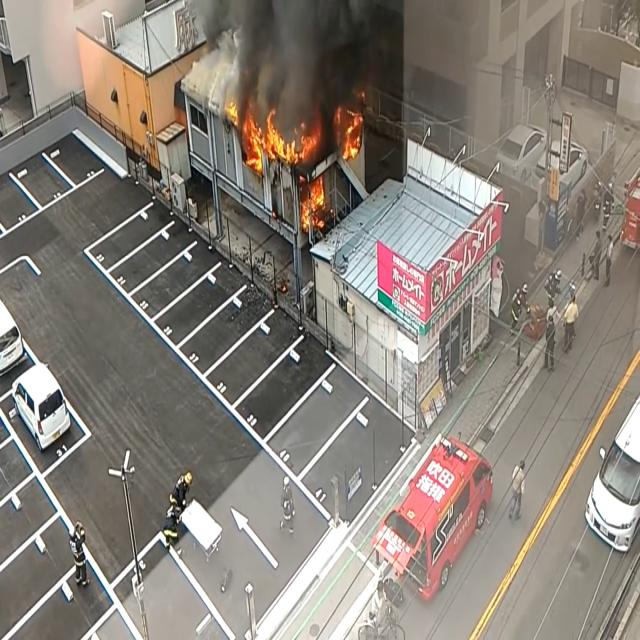Fire: (240, 109, 324, 175), (336, 97, 368, 165), (301, 169, 328, 233), (222, 95, 240, 130)
Smoke: (212, 0, 402, 120)
